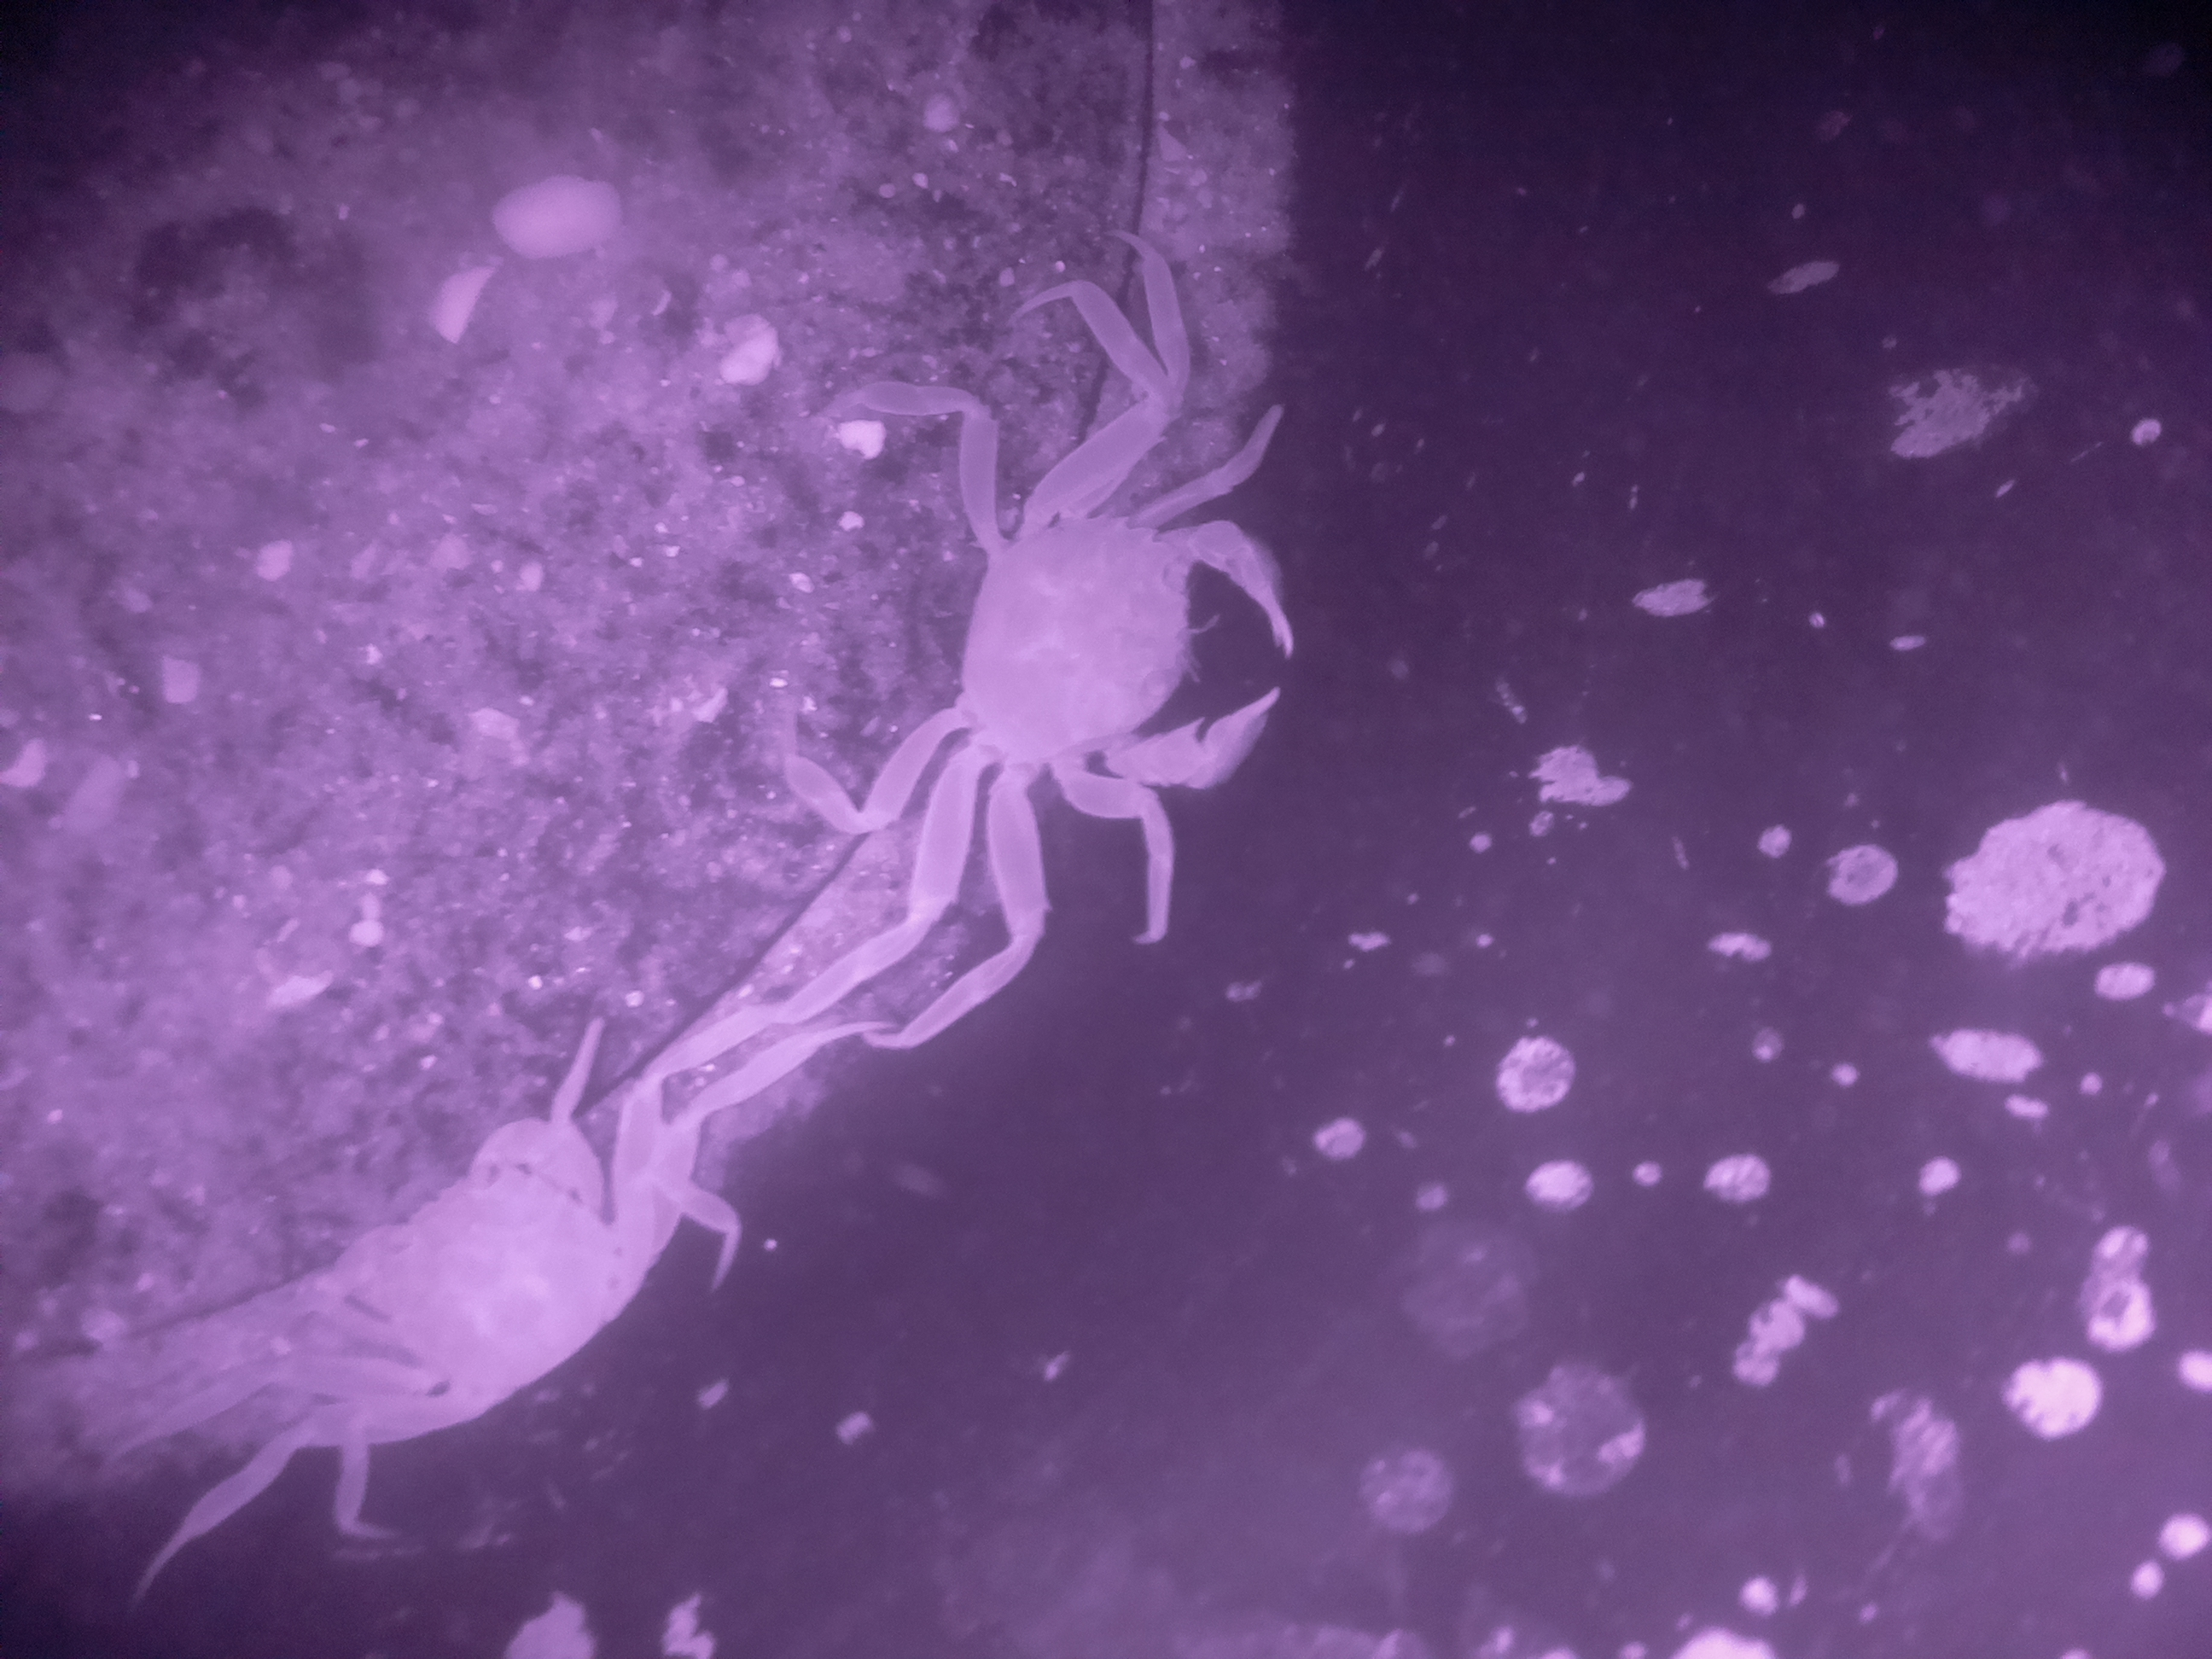Crab: (266, 1065, 806, 1500), (848, 432, 1367, 880)
